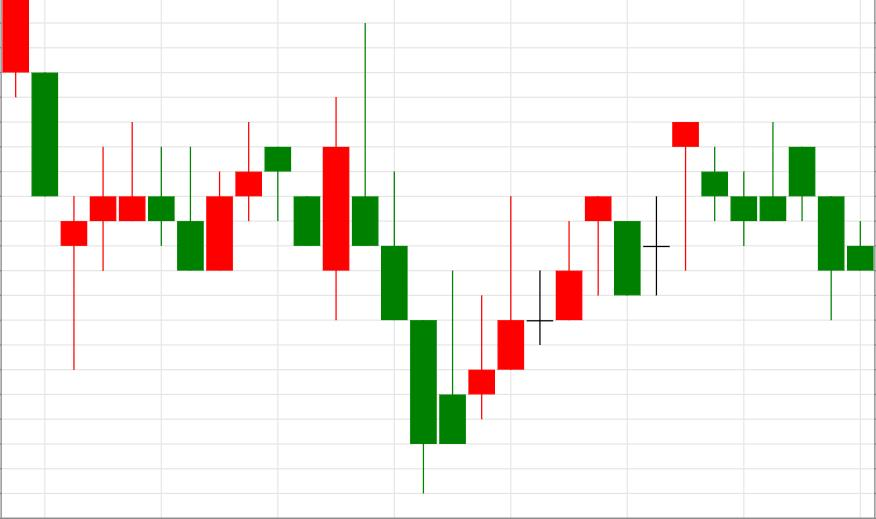hanging_man_fall: (468, 122, 699, 420)
inverse_hammer_rise: (352, 23, 467, 492)
